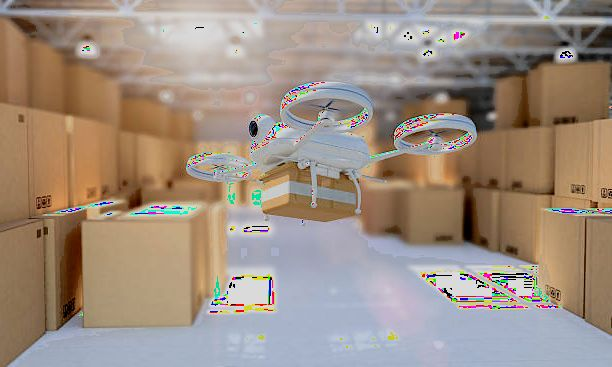Drone: (182, 77, 478, 191)
